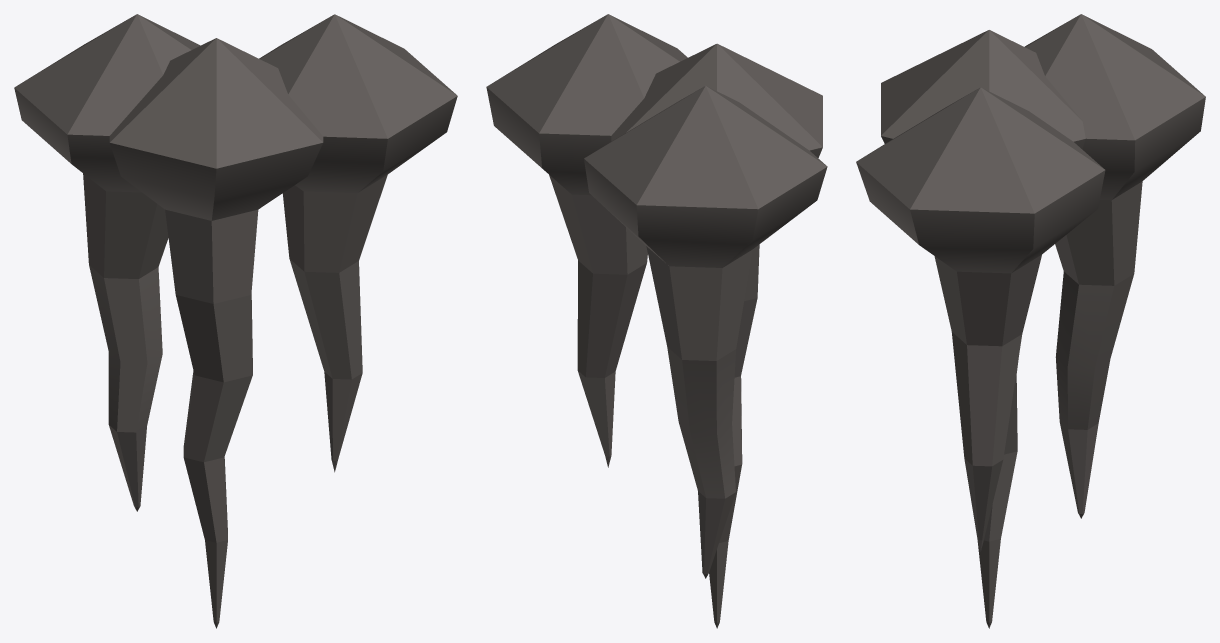
The model's file is SM_Env_Stalactite_01.fbx.
3 renders of one model, left to right at view 1: azimuth 30°, elevation 25°; view 2: azimuth 150°, elevation 25°; view 3: azimuth 270°, elevation 25°, orthographic. The views are drawn at different scales.
Visible parts, largest first — view 1: SM_Env_Stalactite_01; view 2: SM_Env_Stalactite_01; view 3: SM_Env_Stalactite_01.
Part boxes in pixels (left/top/right/bottom): SM_Env_Stalactite_01: left=14, top=14, right=457, bottom=628; SM_Env_Stalactite_01: left=486, top=14, right=827, bottom=628; SM_Env_Stalactite_01: left=856, top=14, right=1205, bottom=628.
Bounding box in the file's own units: 0.7233 × 1.2 × 0.6344.
